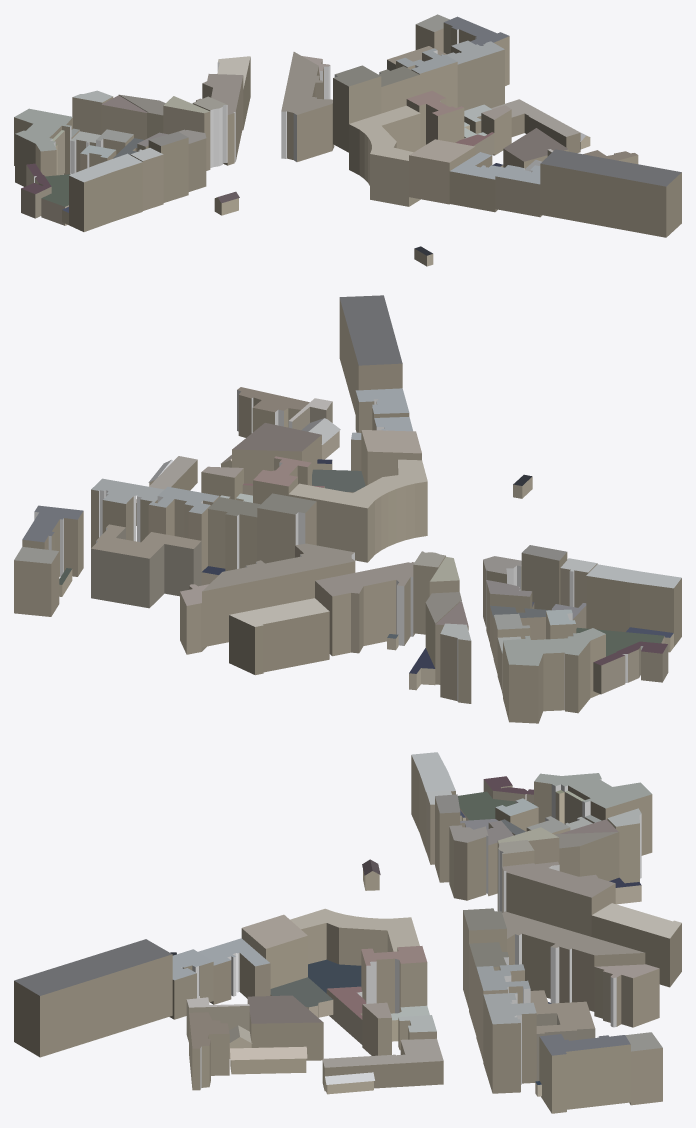
3 renders of one model, top to bottom at view 1: azimuth 30°, elevation 25°; view 2: azimuth 150°, elevation 25°; view 3: azimuth 270°, elevation 25°, orthographic. The views are drawn at different scales.
Visible parts, largest first — view 1: tuile; view 2: tuile; view 3: tuile.
Part boxes in pixels (box(x1,y1,x2,y2)): tuile: box(14, 14, 681, 266); tuile: box(14, 295, 681, 723); tuile: box(14, 752, 681, 1113).
Bounding box in the file's own units: 269 × 41.17 × 256.
